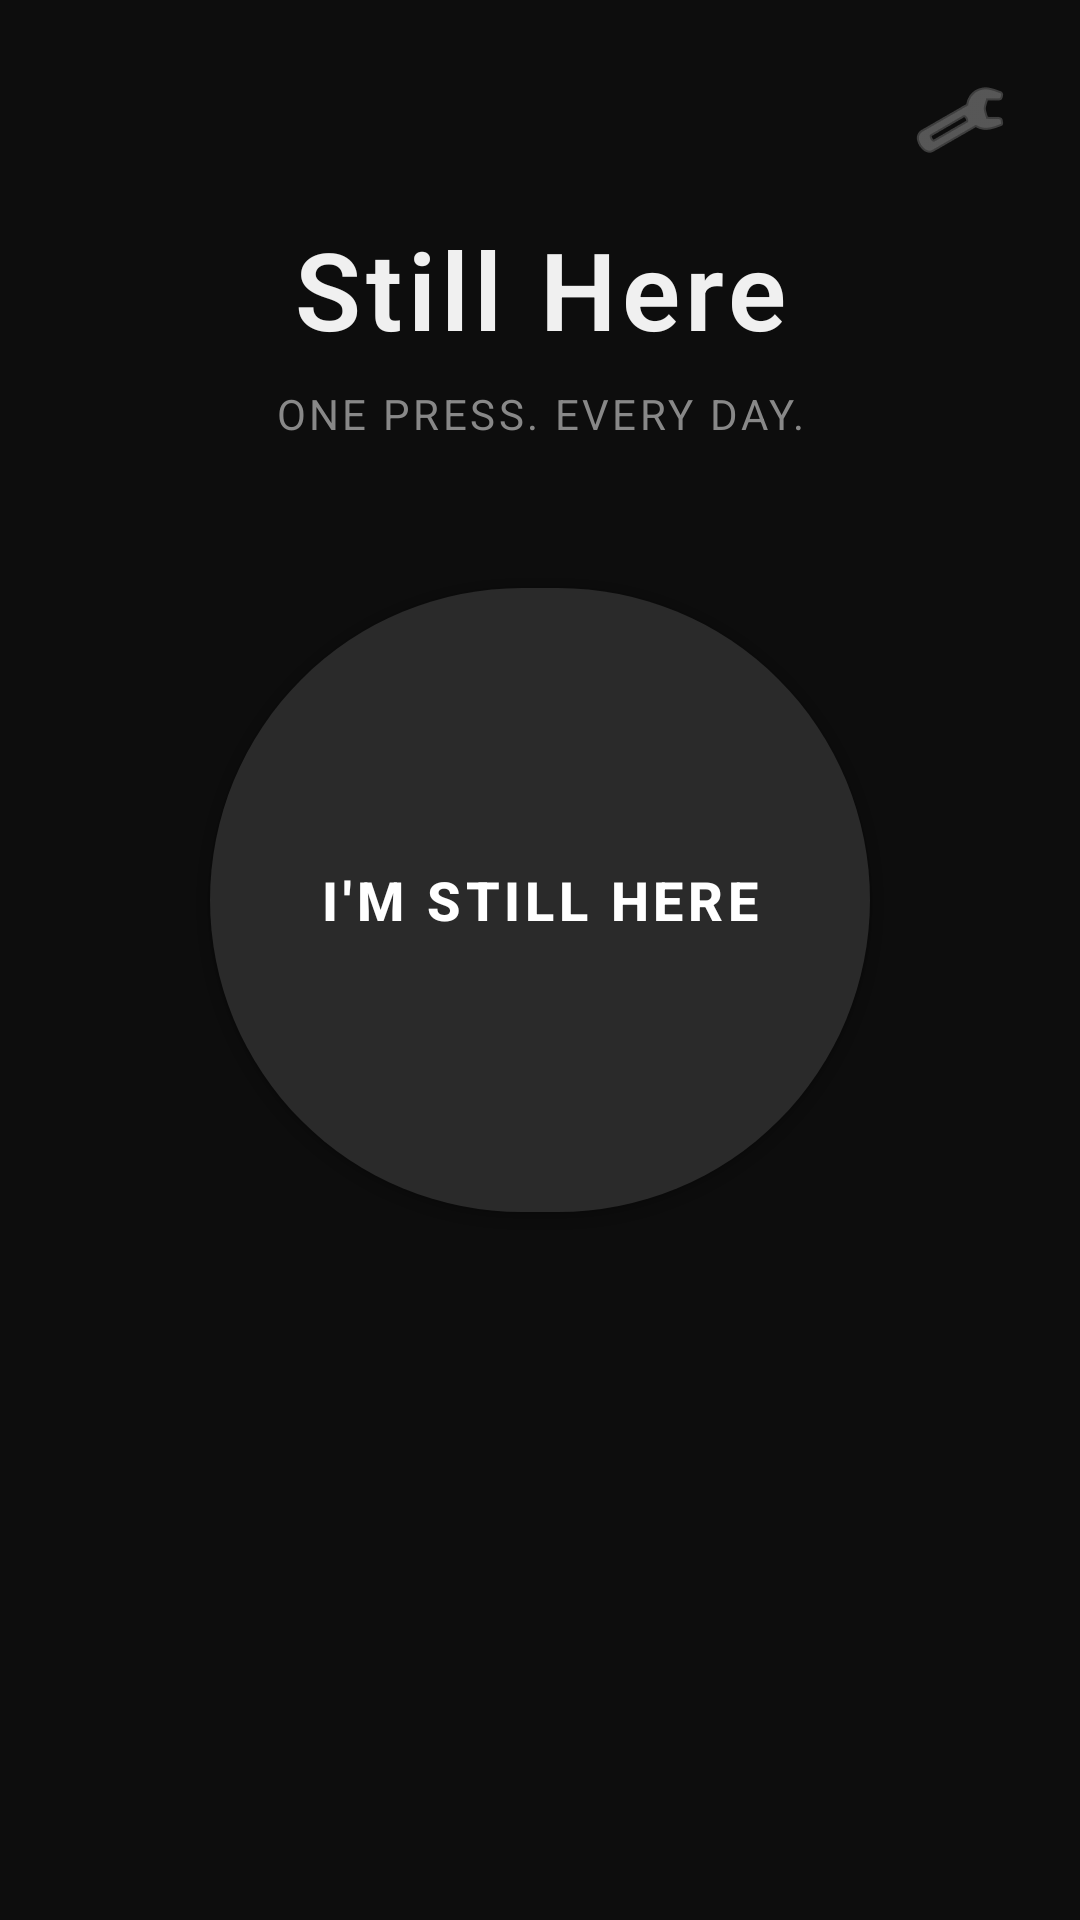

Icon click points for this 1080*1920 phone screenshot, format [x,y]:
Settings: [960,120]
